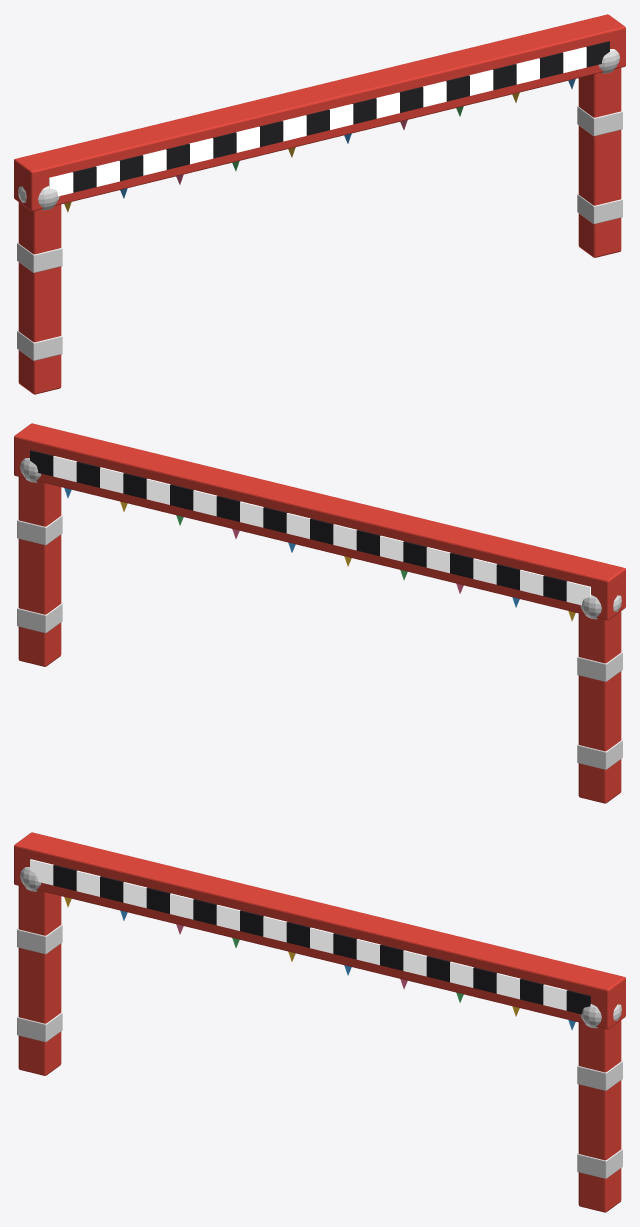
File: arch.glb
The picture shows the model from 3 angles, top to bottom: view 1: azimuth 30°, elevation 25°; view 2: azimuth 150°, elevation 25°; view 3: azimuth 330°, elevation 25°; orthographic projection.
Parts seen in each view (by area): view 1: Beam, Pillar.001, Pillar, PStripe2, PStripe1.001, PStripe1, PStripe2.001; view 2: Beam, Pillar.001, Pillar, PStripe2, PStripe1.001, PStripe1, PStripe2.001; view 3: Beam, Pillar, Pillar.001, PStripe2.001, PStripe1, PStripe1.001, PStripe2.
Part boxes in pixels (left/top/right/bottom): Beam: left=14, top=14, right=625, bottom=211; Pillar.001: left=18, top=202, right=61, bottom=394; Pillar: left=578, top=68, right=621, bottom=257; PStripe2: left=577, top=106, right=622, bottom=136; PStripe1.001: left=17, top=330, right=62, bottom=360; PStripe1: left=577, top=194, right=622, bottom=224; PStripe2.001: left=17, top=242, right=62, bottom=272; Beam: left=14, top=423, right=625, bottom=620; Pillar.001: left=578, top=611, right=621, bottom=803; Pillar: left=18, top=477, right=61, bottom=666; PStripe2: left=17, top=515, right=62, bottom=545; PStripe1.001: left=577, top=739, right=622, bottom=769; PStripe1: left=17, top=603, right=62, bottom=633; PStripe2.001: left=577, top=651, right=622, bottom=681; Beam: left=14, top=832, right=625, bottom=1029; Pillar: left=578, top=1020, right=621, bottom=1212; Pillar.001: left=18, top=886, right=61, bottom=1075; PStripe2.001: left=17, top=924, right=62, bottom=954; PStripe1: left=577, top=1148, right=622, bottom=1178; PStripe1.001: left=17, top=1012, right=62, bottom=1042; PStripe2: left=577, top=1060, right=622, bottom=1090.
Size of the model in its own units: 17.1 by 6.15 by 1.1.
